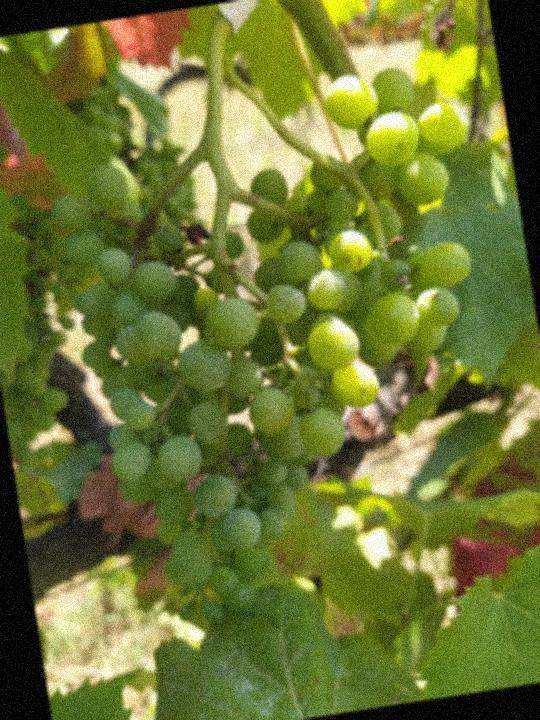grape: (37, 58, 540, 645)
